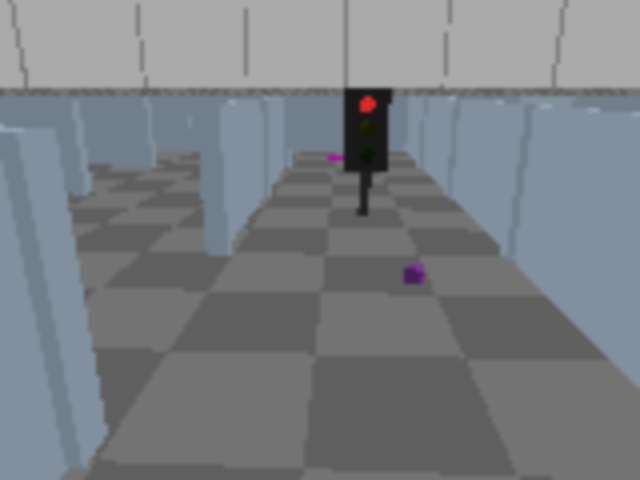puck: (404, 262, 426, 285)
